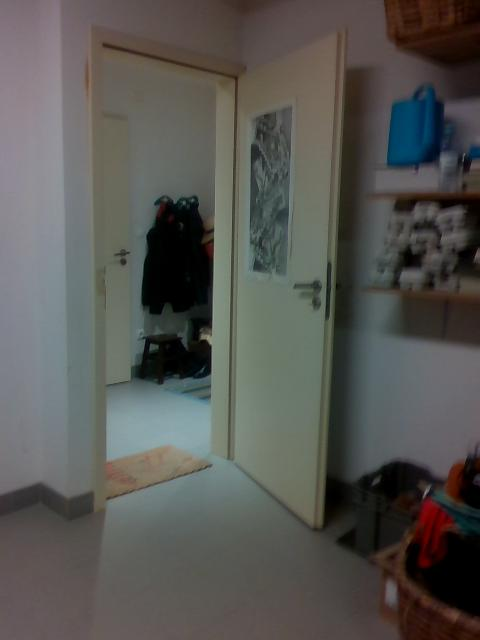open_door: (87, 21, 250, 510)
